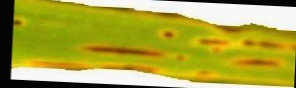Bacterial_Leaf_Blight: (222, 50, 286, 71), (194, 40, 296, 49), (79, 46, 165, 54), (149, 24, 184, 41), (14, 11, 27, 32), (176, 50, 186, 62)
